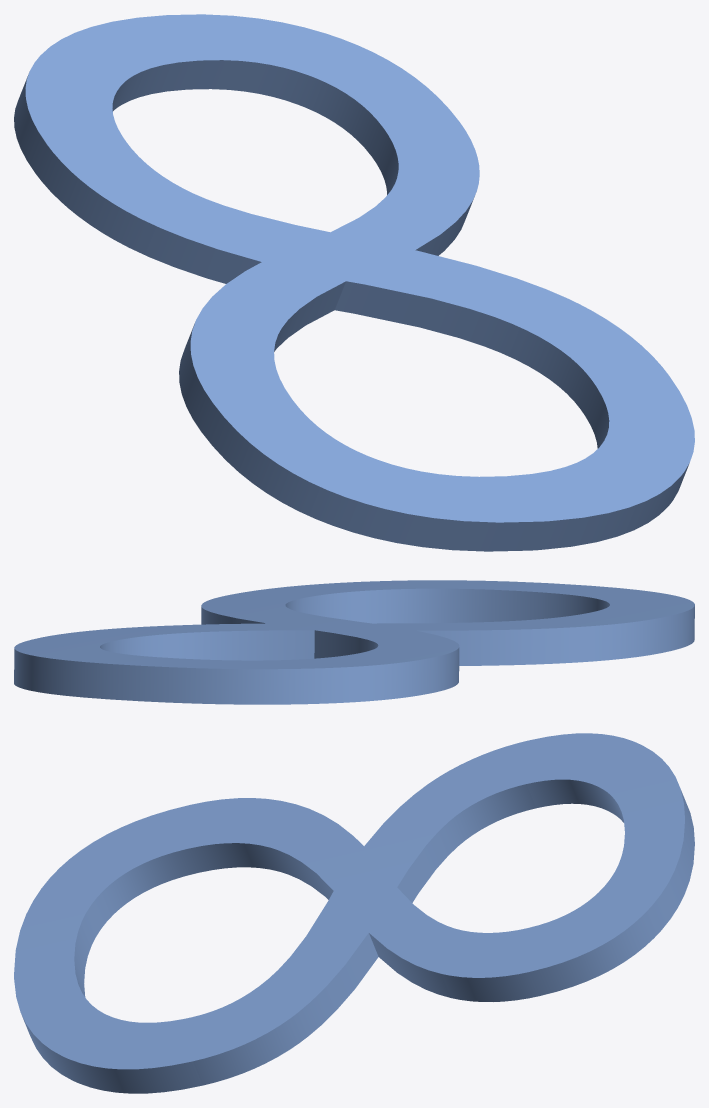
The model's file is New_Number_8.gltf.
3 renders of one model, top to bottom at view 1: azimuth 30°, elevation 25°; view 2: azimuth 150°, elevation 25°; view 3: azimuth 270°, elevation 25°, orthographic. The views are drawn at different scales.
Parts seen in each view (by area): view 1: Part 737; view 2: Part 737; view 3: Part 737.
Part boxes in pixels (bbox=[...]): Part 737: bbox=[14, 14, 694, 551]; Part 737: bbox=[14, 580, 694, 704]; Part 737: bbox=[14, 733, 694, 1093].
Size of the model in its own units: 0.0036 by 0.00198 by 0.00554.
